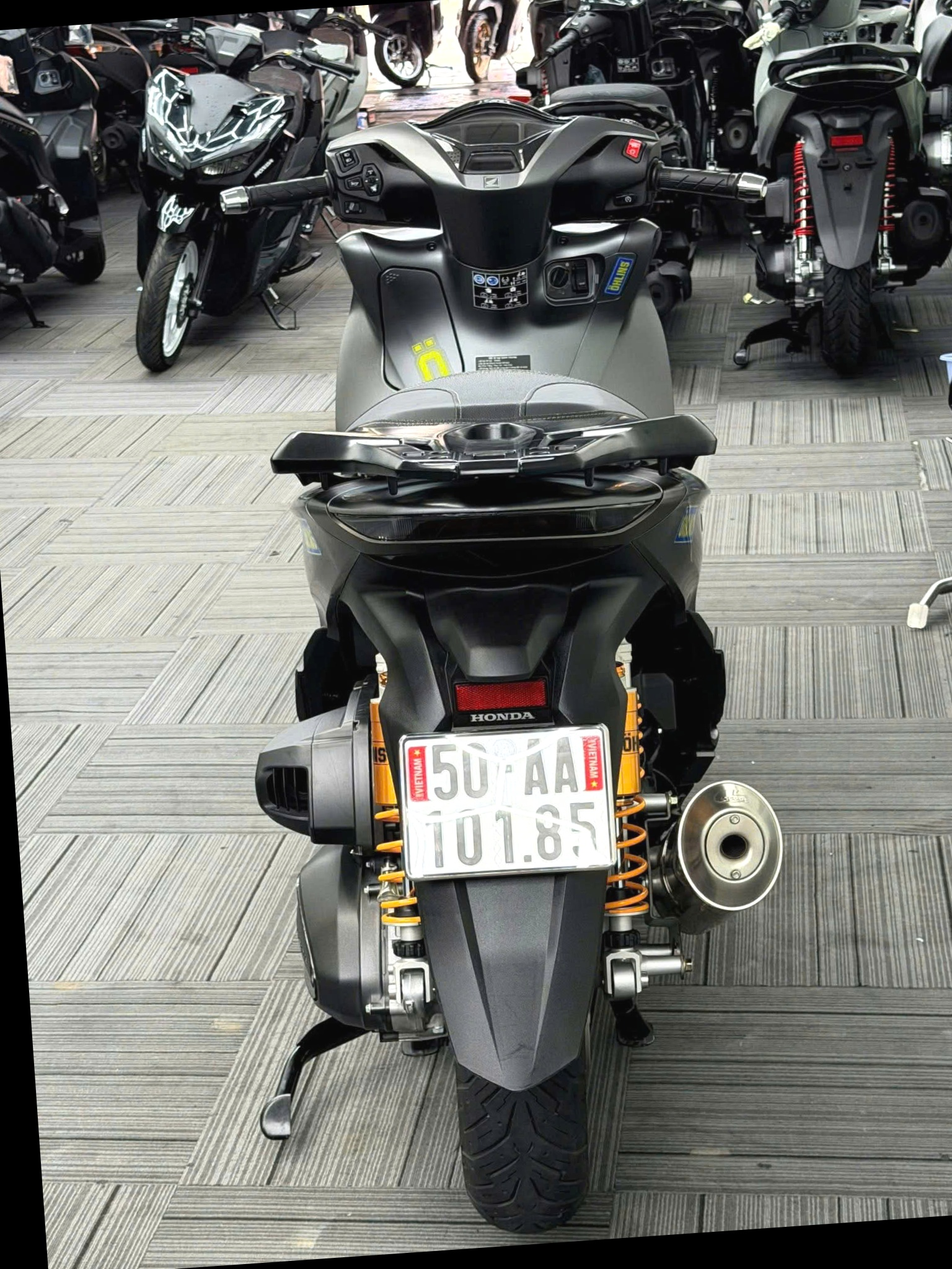Bien-so: (387, 770, 590, 929)
